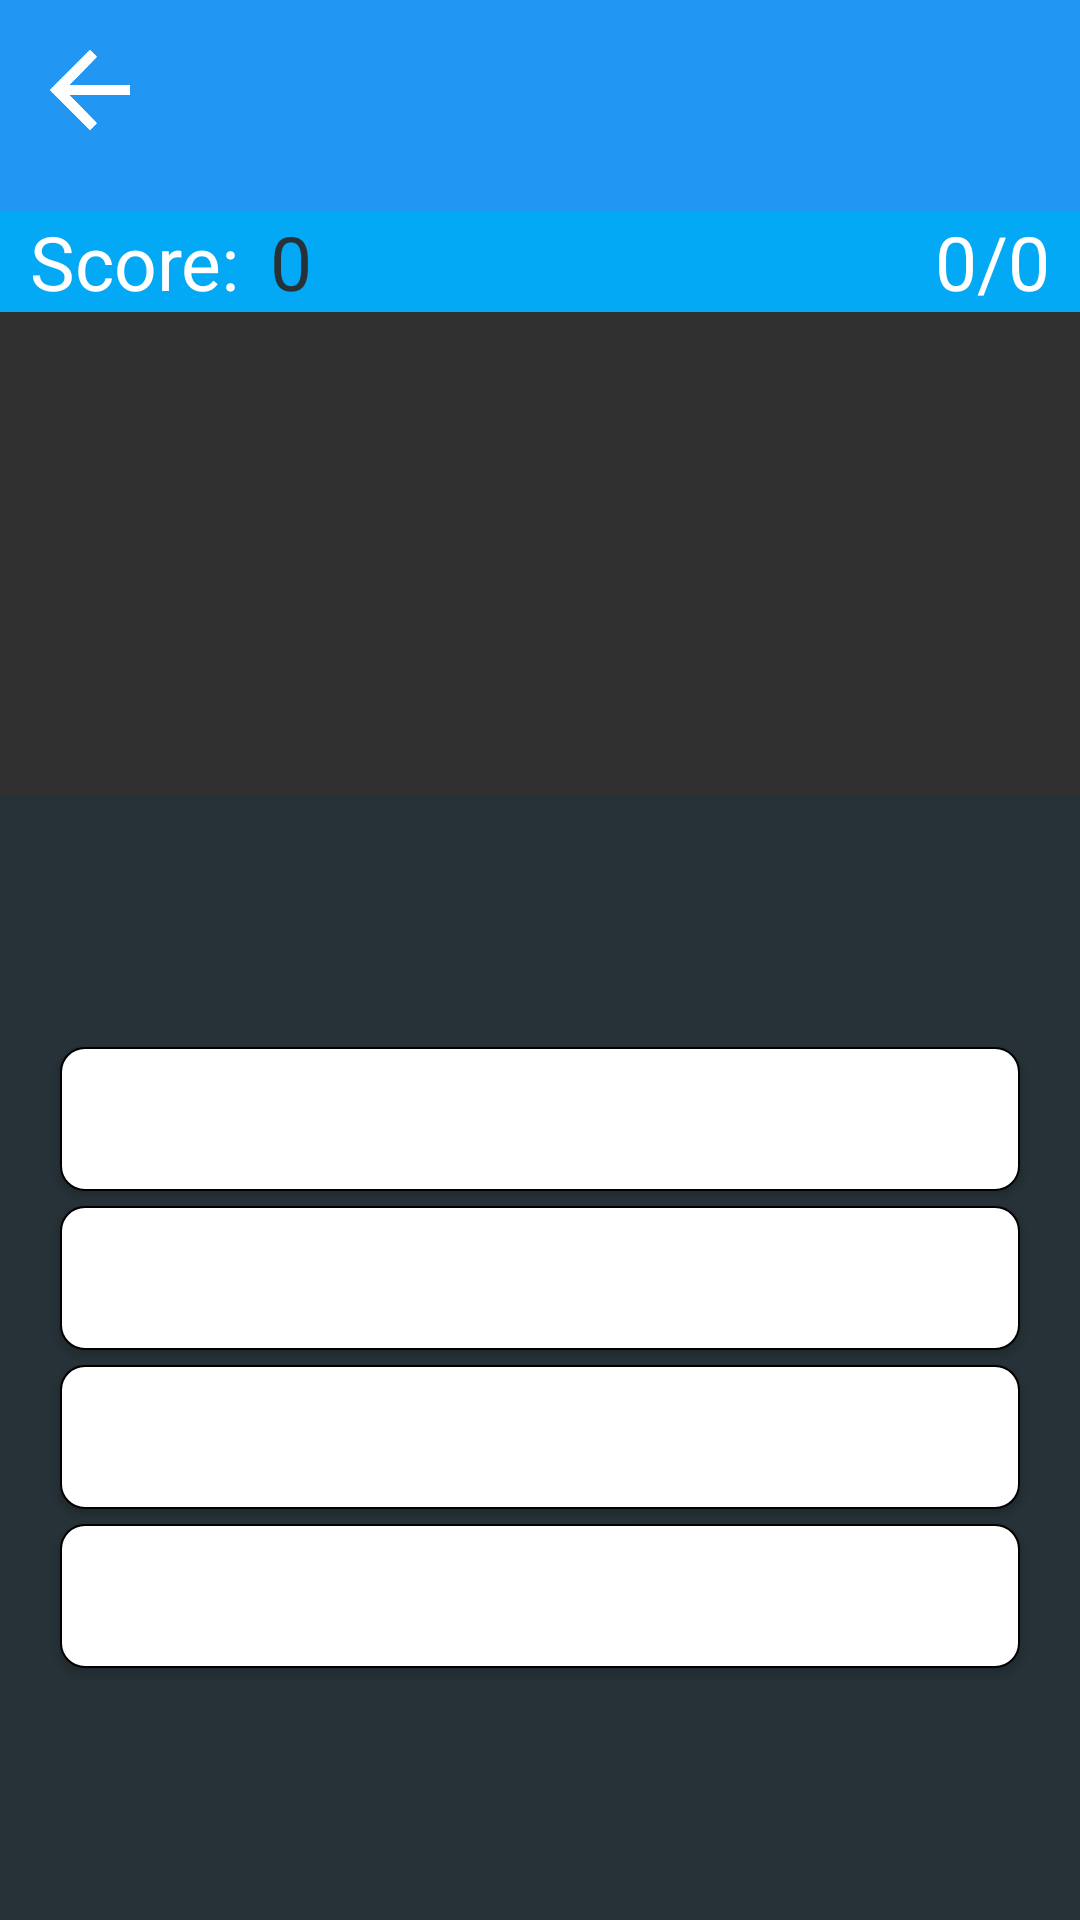

Icon bounding boxes for this 1080 x 1920 phone screenshot, format bbox=(x1, y1, x2, y2):
back arrow: bbox=(50, 50, 130, 130)
